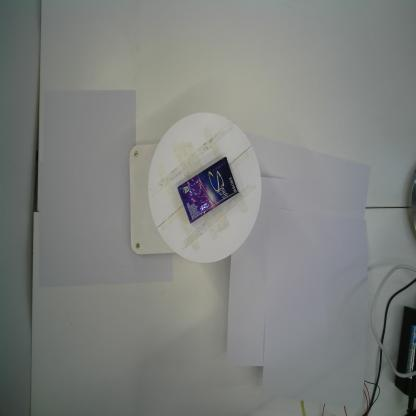Gum: (177, 156, 240, 225)
